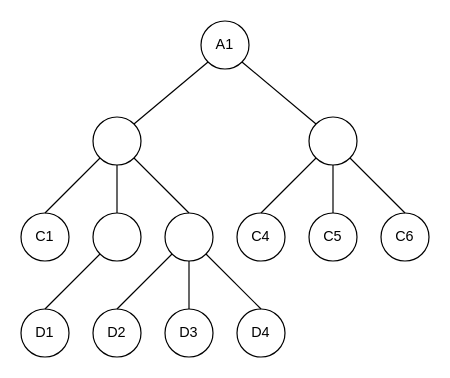
Some shapes in this 450 by 378 pixel diagram are drawn without their labels. The centre of each missing label's shape, as x and y in pixels:
B1: point 116,140
B2: point 332,140
C2: point 116,236
C3: point 188,236
